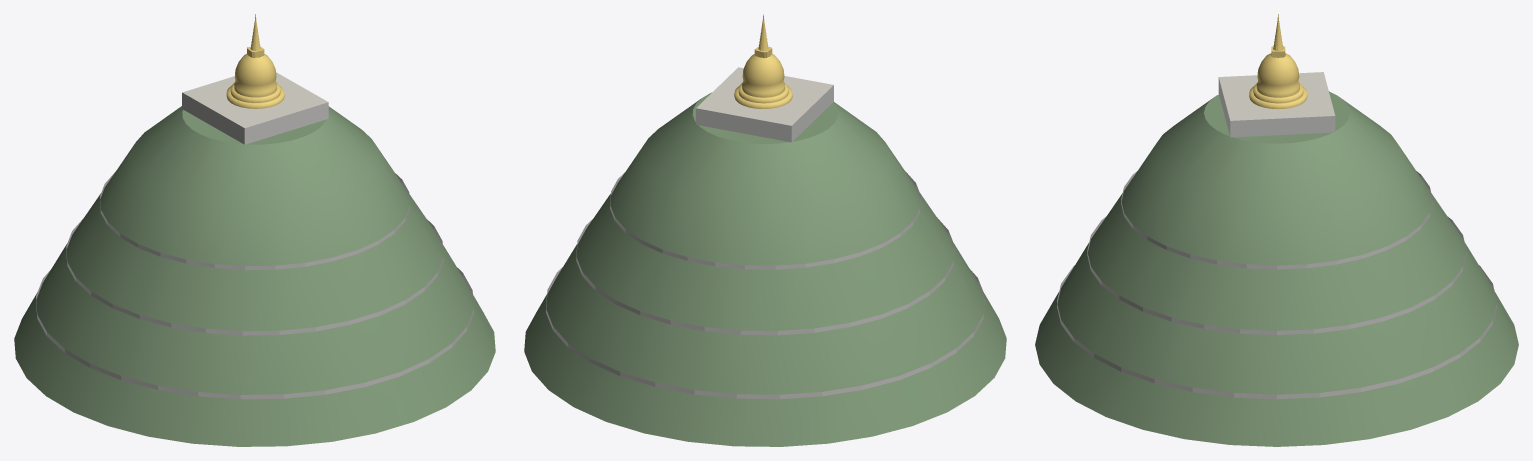
The model's file is goldenmount.glb.
3 views of the same model, side by side, from view 1: azimuth 30°, elevation 25°; view 2: azimuth 150°, elevation 25°; view 3: azimuth 270°, elevation 25° (orthographic).
Visible parts, largest first — view 1: goldenmount; view 2: goldenmount; view 3: goldenmount.
Boxes of the visible parts, bbox=[...] form: goldenmount: bbox=[14, 14, 495, 446]; goldenmount: bbox=[524, 14, 1006, 446]; goldenmount: bbox=[1035, 14, 1518, 446].
Size of the model in its own units: 106 by 80 by 106.
